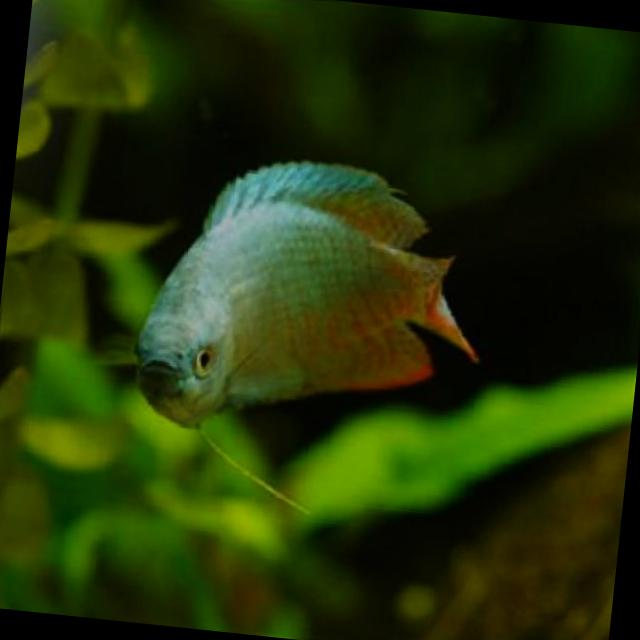Gourami: (124, 142, 482, 448)
